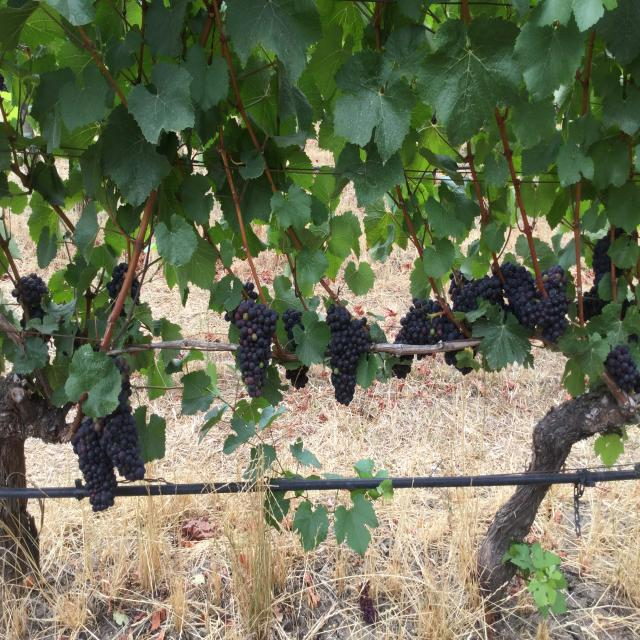grapes: (225, 282, 279, 398), (500, 262, 570, 342), (101, 378, 145, 482), (71, 418, 118, 512), (326, 305, 370, 405), (395, 298, 465, 345), (582, 232, 611, 322), (449, 272, 505, 313), (11, 273, 49, 320), (605, 345, 640, 393), (106, 263, 129, 307), (282, 308, 304, 348), (392, 355, 412, 378), (130, 278, 139, 300), (120, 308, 126, 317)
